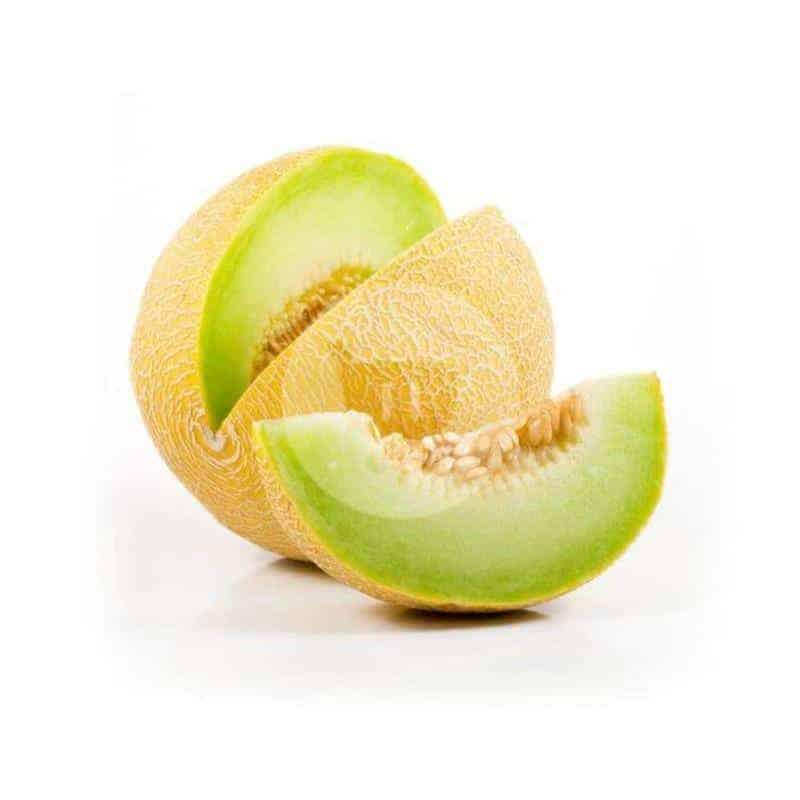Melon Unripe: (131, 148, 552, 561), (254, 373, 666, 610)
